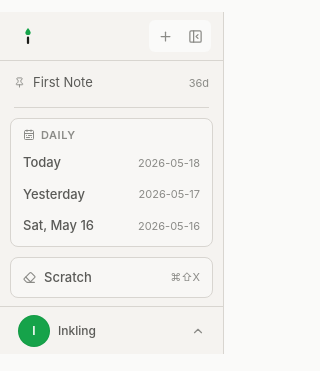
Test: Sidebar › shows unpin for pinned notes in the context menu
Right-click the text "First Note".
right_click(63, 82)  # box [33, 74, 93, 90]
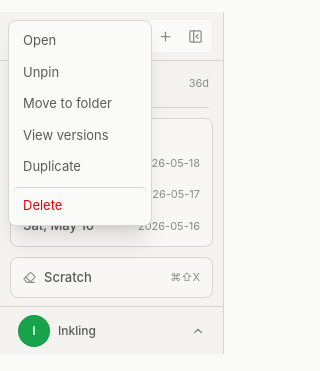
Expected: the menu item "Unpin" is shown, [23, 64, 59, 80]
